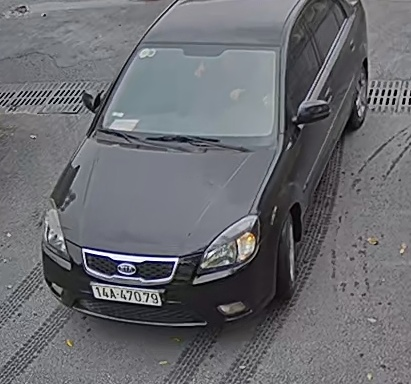vehicle plate: (86, 278, 164, 307)
